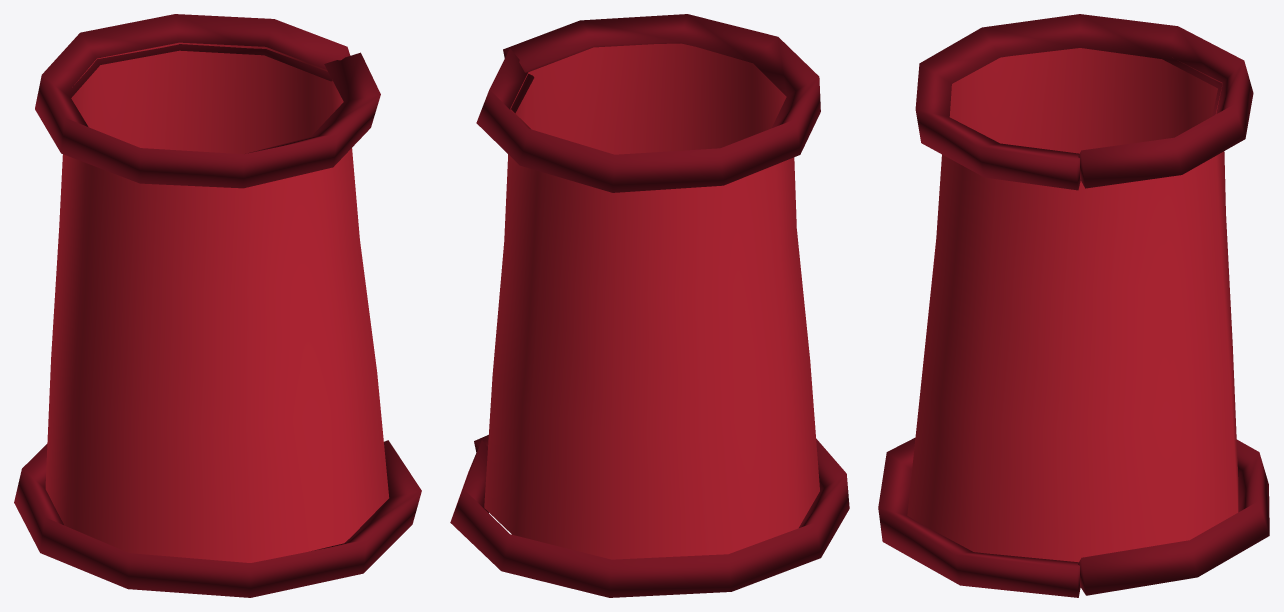
Rendered from adamantite_armor_bracer.R.glb.
3 views of the same model, side by side, from view 1: azimuth 30°, elevation 25°; view 2: azimuth 150°, elevation 25°; view 3: azimuth 270°, elevation 25° (orthographic).
Parts seen in each view (by area): view 1: adamantite_armor_bracer.R; view 2: adamantite_armor_bracer.R; view 3: adamantite_armor_bracer.R.
Part boxes in pixels (bbox=[...]): adamantite_armor_bracer.R: bbox=[14, 14, 421, 597]; adamantite_armor_bracer.R: bbox=[450, 14, 849, 597]; adamantite_armor_bracer.R: bbox=[878, 14, 1269, 597].
Size of the model in its own units: 0.1435 by 0.1719 by 0.1408.
